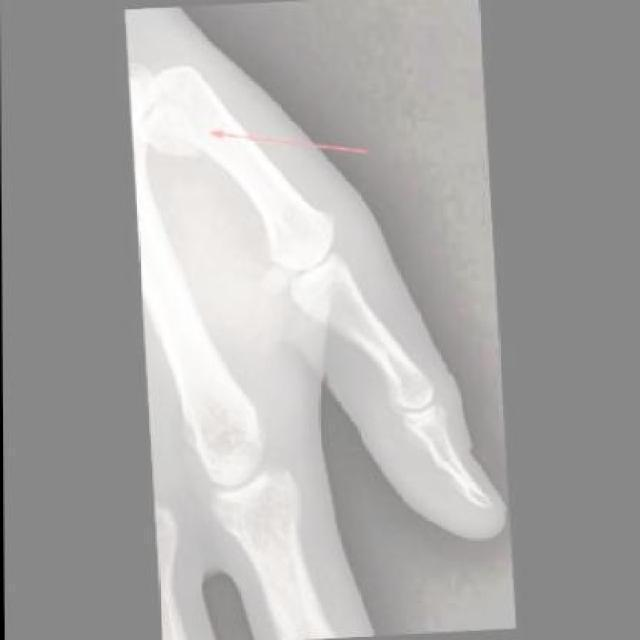Fracture: (132, 92, 218, 171)
